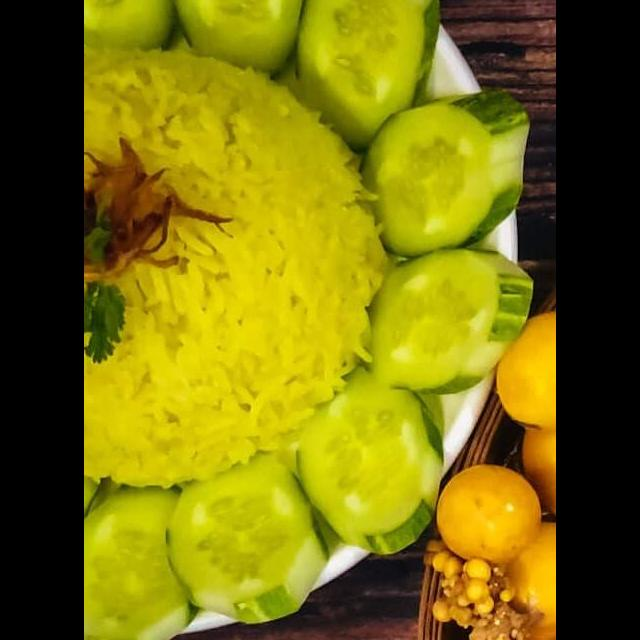com: (85, 39, 395, 497)
trung: (428, 460, 546, 572), (488, 306, 556, 436), (490, 513, 556, 640)
